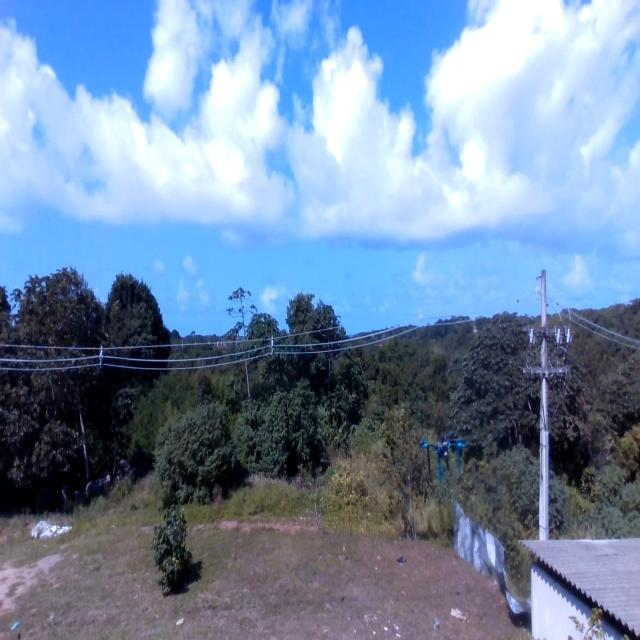-uav-: (420, 428, 468, 480)
